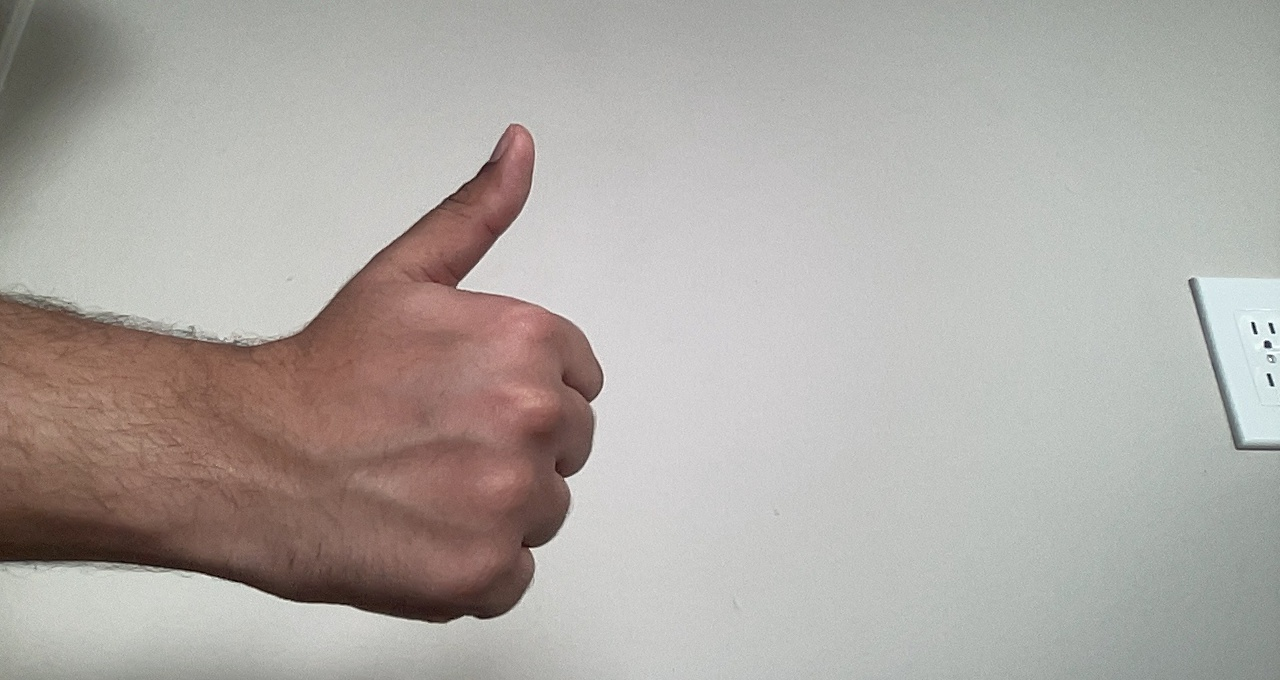thumbsup: (293, 119, 612, 640)
